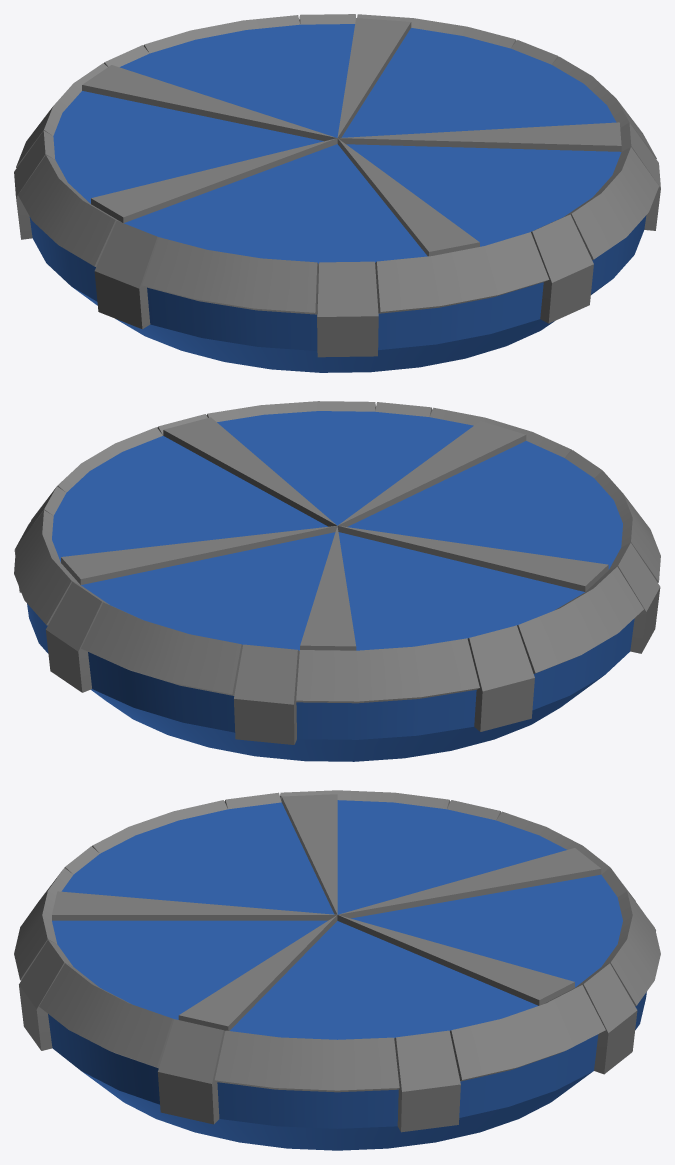
Rendered from ring1.glb.
3 views of the same model, one above another, from view 1: azimuth 30°, elevation 25°; view 2: azimuth 150°, elevation 25°; view 3: azimuth 270°, elevation 25° (orthographic).
Visible parts, largest first — view 1: ring; view 2: ring; view 3: ring.
Boxes of the visible parts, bbox=[...] form: ring: bbox=[14, 14, 660, 372]; ring: bbox=[14, 401, 660, 761]; ring: bbox=[14, 790, 660, 1150].
Bounding box in the file's own units: 0.3775 × 0.0819 × 0.3775.
